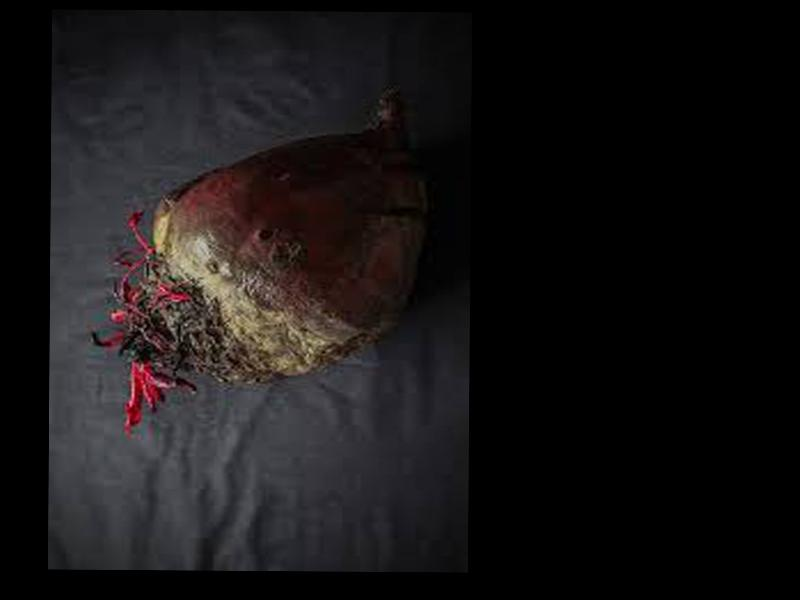Beet: (90, 84, 425, 435)
